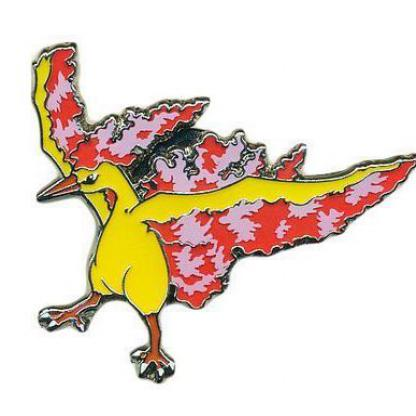Moltres: (1, 53, 416, 402)
